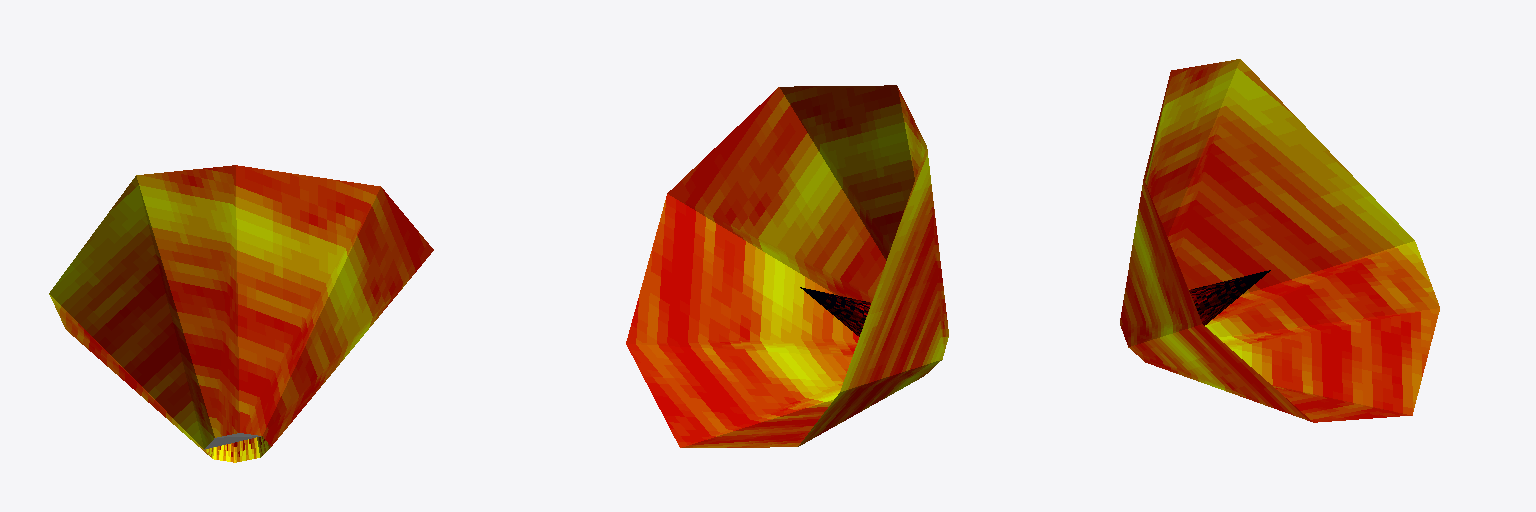
3 views of the same model, side by side, from view 1: azimuth 30°, elevation 25°; view 2: azimuth 150°, elevation 25°; view 3: azimuth 270°, elevation 25° (orthographic).
Parts seen in each view (by area): view 1: turbo5; view 2: turbo5; view 3: turbo5.
Part boxes in pixels (bbox=[...]): turbo5: bbox=[49, 165, 433, 462]; turbo5: bbox=[626, 85, 948, 447]; turbo5: bbox=[1120, 59, 1439, 422].
Size of the model in its own units: 1.25 by 1.27 by 1.24.
Materials: 9 (9 with a texture image).